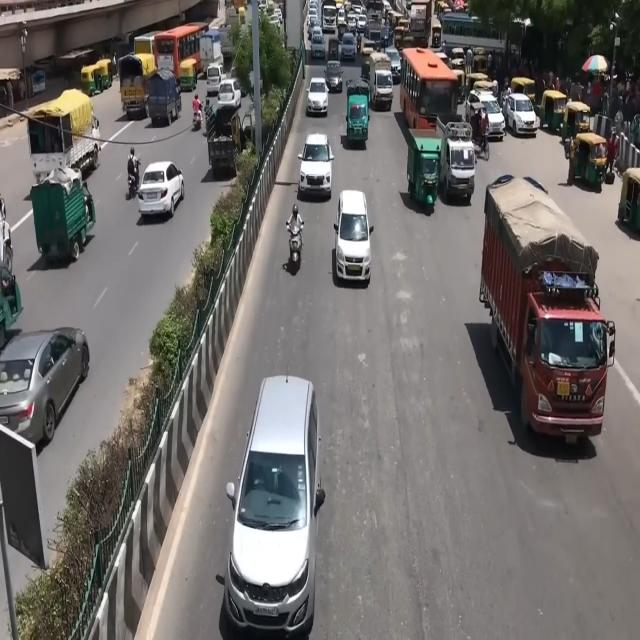auto: (404, 122, 444, 210), (569, 130, 609, 190), (618, 164, 640, 235), (540, 88, 569, 132), (562, 100, 591, 143), (512, 70, 541, 110), (178, 58, 199, 94)
bike-auto: (285, 212, 304, 264), (127, 145, 141, 195), (479, 109, 489, 153), (192, 101, 203, 130)
